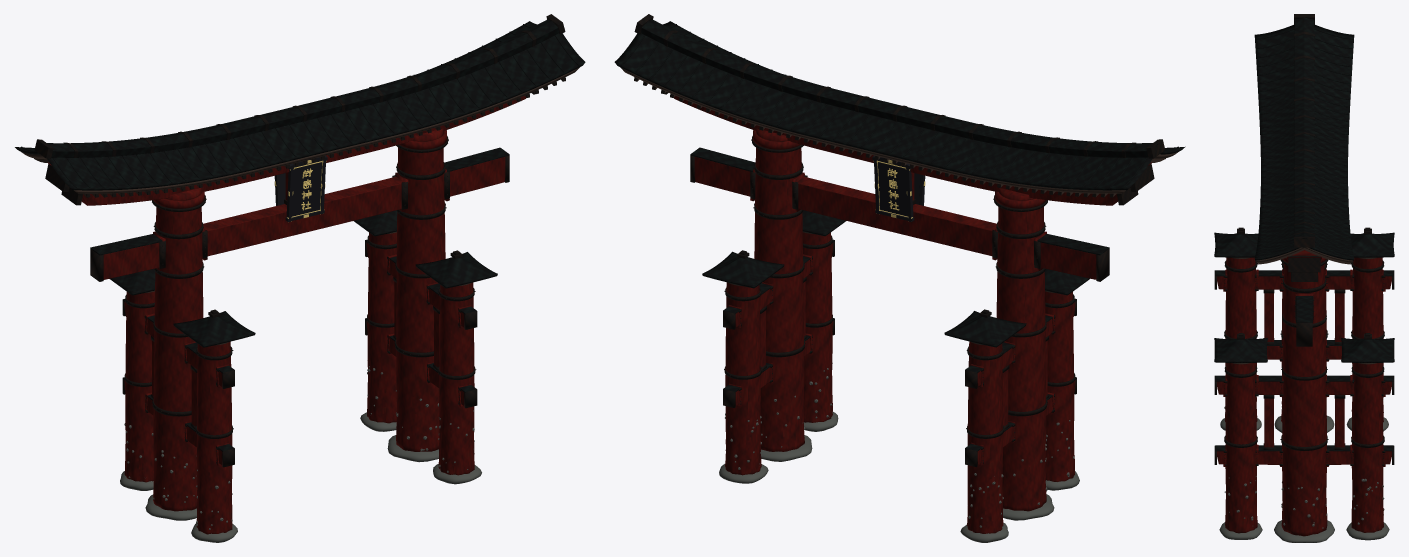
File: itsukushima_torii.glb
3 renders of one model, left to right at view 1: azimuth 30°, elevation 25°; view 2: azimuth 150°, elevation 25°; view 3: azimuth 270°, elevation 25°, orthographic. The views are drawn at different scales.
Parts seen in each view (by area): view 1: MainRoof_CopperPatinaSheet, MainPillar_Hashira_L, MainPillar_Hashira_R, MainBeam_Nuki, MainRoof_Hakomune_Ridge, SmallPillar_Shitabashira_R_Front, SmallPillar_Shitabashira_L_Front, SmallPillar_Shitabashira_R_Rear, SmallPillar_Shitabashira_L_Rear, Outrigger_Metal_Kanagu, Nuki_And_Pillar_Kanagu, MainBeam_Shimaki (+12 smaller); view 2: MainRoof_CopperPatinaSheet, MainPillar_Hashira_R, MainPillar_Hashira_L, MainBeam_Nuki, MainRoof_Hakomune_Ridge, SmallPillar_Shitabashira_R_Rear, SmallPillar_Shitabashira_L_Rear, SmallPillar_Shitabashira_R_Front, SmallPillar_Shitabashira_L_Front, Outrigger_Metal_Kanagu, Nuki_And_Pillar_Kanagu, MainBeam_Shimaki (+12 smaller); view 3: MainRoof_CopperPatinaSheet, MainPillar_Hashira_R, SmallPillar_Shitabashira_R_Front, SmallPillar_Shitabashira_R_Rear, MainRoof_Hakomune_Ridge, Outrigger_Struts_And_Wedges, Outrigger_Metal_Kanagu, SmallPillar_Shitabashira_L_Front, SmallPillar_Shitabashira_L_Rear, MainRoof_Bronze_Kanagu, Outrigger_Copper_Flashing, SmallCap_CopperRoof_R_Front (+14 smaller).
Boxes of the visible parts, bbox=[...] form: MainRoof_CopperPatinaSheet: bbox=[15, 21, 585, 190]; MainPillar_Hashira_L: bbox=[153, 188, 203, 511]; MainPillar_Hashira_R: bbox=[396, 128, 445, 451]; MainBeam_Nuki: bbox=[103, 157, 505, 279]; MainRoof_Hakomune_Ridge: bbox=[40, 19, 558, 157]; SmallPillar_Shitabashira_R_Front: bbox=[438, 282, 474, 475]; SmallPillar_Shitabashira_L_Front: bbox=[196, 341, 232, 534]; SmallPillar_Shitabashira_R_Rear: bbox=[367, 232, 396, 423]; SmallPillar_Shitabashira_L_Rear: bbox=[124, 291, 154, 482]; Outrigger_Metal_Kanagu: bbox=[122, 235, 477, 467]; Nuki_And_Pillar_Kanagu: bbox=[90, 136, 509, 281]; MainBeam_Shimaki: bbox=[81, 96, 526, 205]; MainRoof_CopperPatinaSheet: bbox=[614, 21, 1185, 190]; MainPillar_Hashira_R: bbox=[754, 128, 804, 451]; MainPillar_Hashira_L: bbox=[996, 188, 1046, 511]; MainBeam_Nuki: bbox=[694, 157, 1096, 279]; MainRoof_Hakomune_Ridge: bbox=[641, 19, 1159, 157]; SmallPillar_Shitabashira_R_Rear: bbox=[725, 282, 761, 475]; SmallPillar_Shitabashira_L_Rear: bbox=[967, 341, 1003, 533]; SmallPillar_Shitabashira_R_Front: bbox=[802, 232, 832, 422]; SmallPillar_Shitabashira_L_Front: bbox=[1045, 291, 1074, 481]; Outrigger_Metal_Kanagu: bbox=[723, 236, 1076, 467]; Nuki_And_Pillar_Kanagu: bbox=[690, 136, 1109, 281]; MainBeam_Shimaki: bbox=[674, 96, 1117, 205]; MainRoof_CopperPatinaSheet: bbox=[1254, 25, 1354, 260]; MainPillar_Hashira_R: bbox=[1281, 264, 1327, 536]; SmallPillar_Shitabashira_R_Front: bbox=[1225, 363, 1257, 533]; SmallPillar_Shitabashira_R_Rear: bbox=[1351, 363, 1383, 532]; MainRoof_Hakomune_Ridge: bbox=[1294, 17, 1314, 239]; Outrigger_Struts_And_Wedges: bbox=[1223, 269, 1385, 466]; Outrigger_Metal_Kanagu: bbox=[1214, 260, 1394, 465]; SmallPillar_Shitabashira_L_Front: bbox=[1224, 257, 1257, 421]; SmallPillar_Shitabashira_L_Rear: bbox=[1351, 257, 1383, 422]; MainRoof_Bronze_Kanagu: bbox=[1288, 14, 1320, 281]; Outrigger_Copper_Flashing: bbox=[1215, 270, 1393, 451]; SmallCap_CopperRoof_R_Front: bbox=[1214, 338, 1267, 362].
Size of the model in its own units: 11.79 by 8.69 by 3.99.
7 materials, 3 textured.
